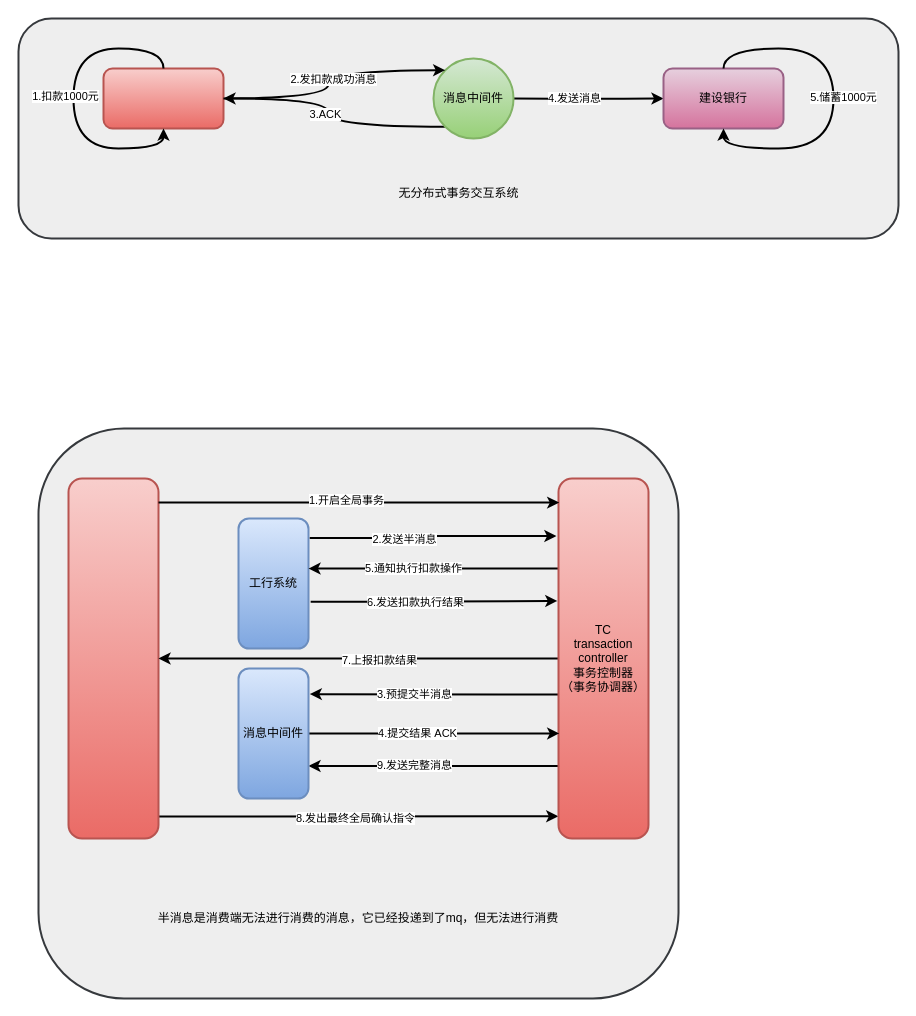
Some shapes in this 916 by 1016 pixel diagram are drawn without their labels. Each missing label, with the box of its shape:
TM transaction manager 事务管理器: (67, 477, 159, 839)
工商银行: (102, 67, 224, 129)
